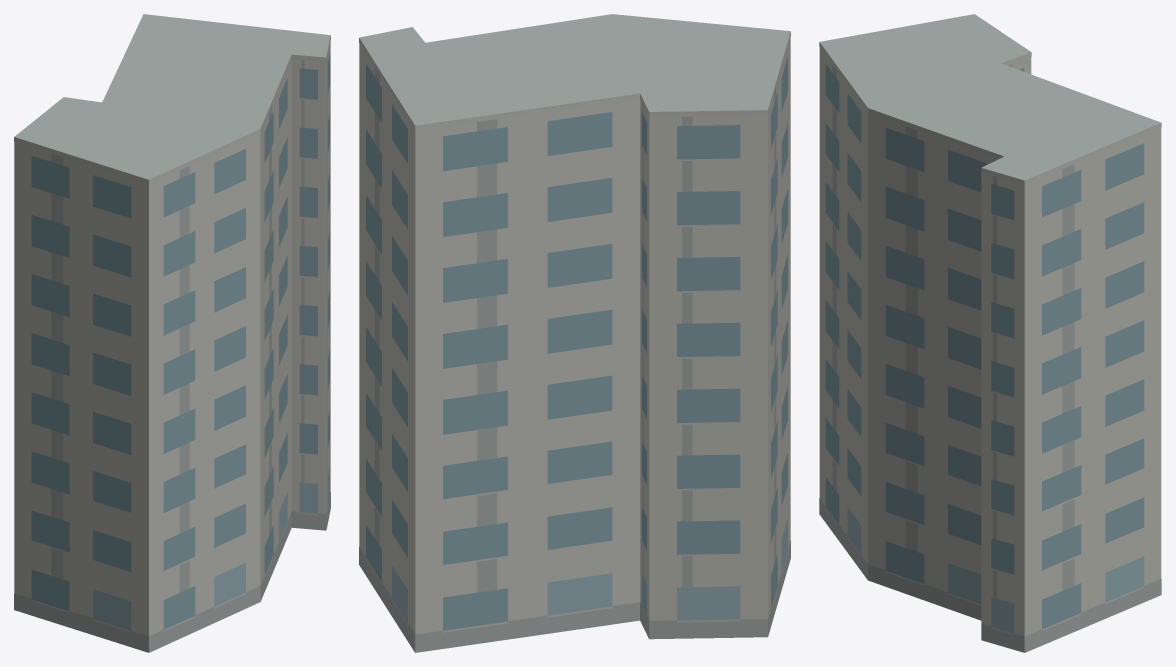
The model's file is residential-eaabbac1-1c11-44b9-ba9f-69b6cf6c90df.glb.
3 views of the same model, side by side, from view 1: azimuth 30°, elevation 25°; view 2: azimuth 150°, elevation 25°; view 3: azimuth 270°, elevation 25° (orthographic). The views are drawn at different scales.
Visible parts, largest first — view 1: residential-eaabbac1-1c11-44b9-ba9f-69b6cf6c90df.tmp; view 2: residential-eaabbac1-1c11-44b9-ba9f-69b6cf6c90df.tmp; view 3: residential-eaabbac1-1c11-44b9-ba9f-69b6cf6c90df.tmp.
Boxes of the visible parts, x1,y1,x2,y2 form: residential-eaabbac1-1c11-44b9-ba9f-69b6cf6c90df.tmp: (14, 14, 330, 652); residential-eaabbac1-1c11-44b9-ba9f-69b6cf6c90df.tmp: (359, 14, 790, 652); residential-eaabbac1-1c11-44b9-ba9f-69b6cf6c90df.tmp: (819, 14, 1161, 652).
Size of the model in its own units: 18.45 by 24.4 by 16.02.
